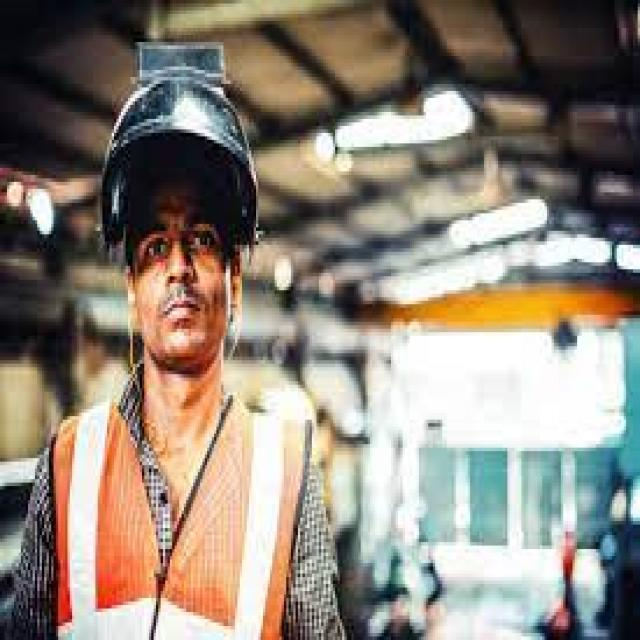Reflective-Jacket: (42, 374, 316, 640)
Safety-Helmet: (88, 66, 274, 266)
